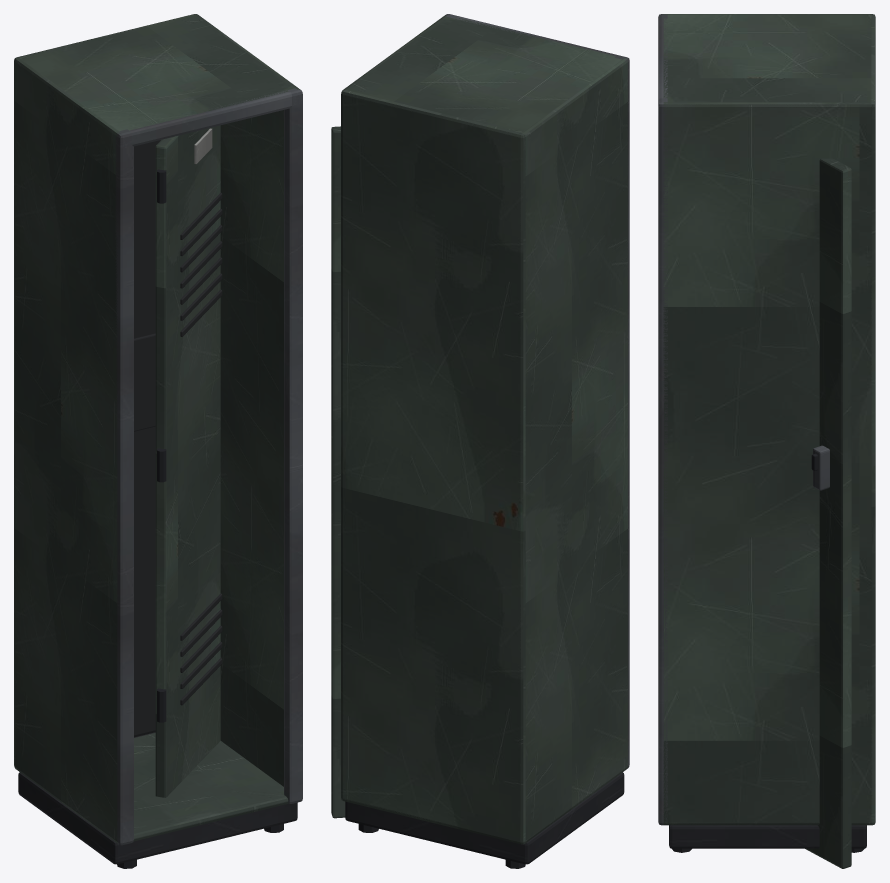
File: locker.glb
3 views of the same model, side by side, from view 1: azimuth 30°, elevation 25°; view 2: azimuth 150°, elevation 25°; view 3: azimuth 270°, elevation 25° (orthographic).
Visible parts, largest first — view 1: body, door; view 2: body, door; view 3: body, door.
Part boxes in pixels (x1=…): body: x1=14, y1=14, x2=302, y2=868; door: x1=155, y1=125, x2=222, y2=797; body: x1=341, y1=14, x2=629, y2=868; door: x1=331, y1=126, x2=345, y2=818; body: x1=658, y1=14, x2=875, y2=852; door: x1=805, y1=158, x2=851, y2=868.
Size of the model in its own units: 0.5672 by 1.93 by 0.505.
Materials: 5 (4 with a texture image).
